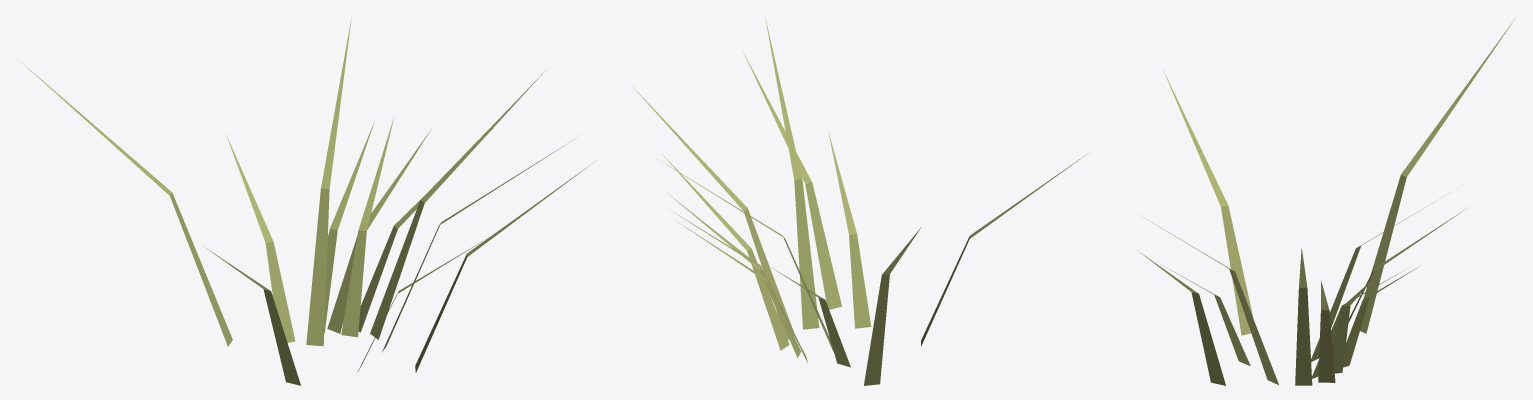
Rendered from oyat.glb.
The picture shows the model from 3 angles, left to right: view 1: azimuth 30°, elevation 25°; view 2: azimuth 150°, elevation 25°; view 3: azimuth 270°, elevation 25°; orthographic projection. The views are drawn at different scales.
Visible parts, largest first — view 1: oyat; view 2: oyat; view 3: oyat.
Boxes of the visible parts, x1=… form: oyat: x1=18, y1=15, x2=596, y2=385; oyat: x1=631, y1=16, x2=1089, y2=385; oyat: x1=1137, y1=18, x2=1515, y2=385.
Size of the model in its own units: 1.1 by 0.6497 by 0.9184.
Materials: 1 (1 with a texture image).
